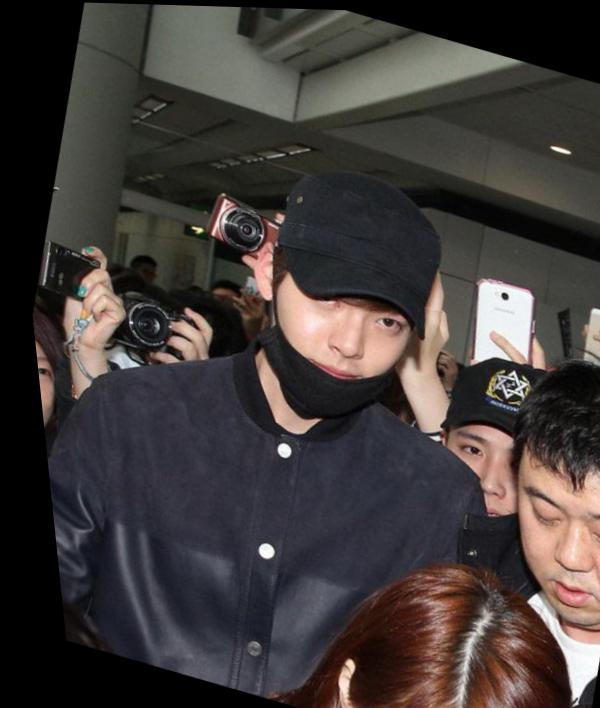NONE: (476, 472, 600, 632), (418, 415, 547, 544), (29, 347, 62, 449)
WRONG: (242, 251, 426, 425)
